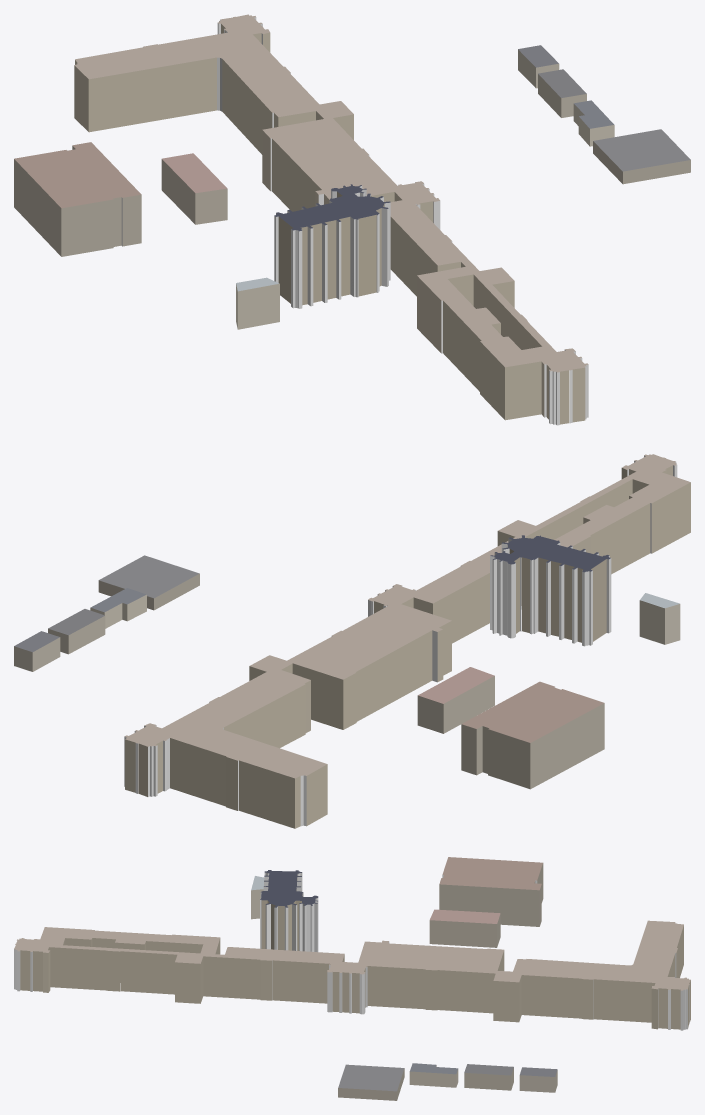
The picture shows the model from 3 angles, top to bottom: view 1: azimuth 30°, elevation 25°; view 2: azimuth 150°, elevation 25°; view 3: azimuth 270°, elevation 25°; orthographic projection. The views are drawn at different scales.
Parts seen in each view (by area): view 1: tuile; view 2: tuile; view 3: tuile.
Part boxes in pixels (x1,y1,x2,y2): tuile: (14, 14, 690, 425); tuile: (14, 454, 690, 828); tuile: (14, 857, 690, 1100).
Bounding box in the file's own units: 258 × 42.35 × 354.
